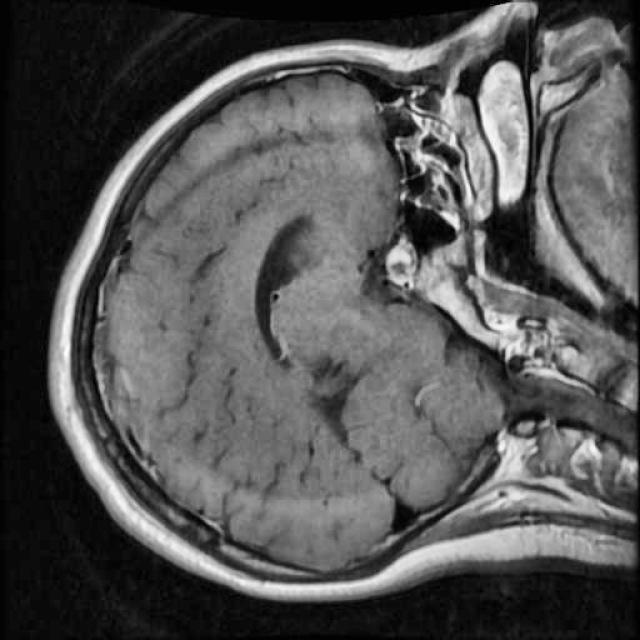Tumor: (371, 229, 424, 305)
